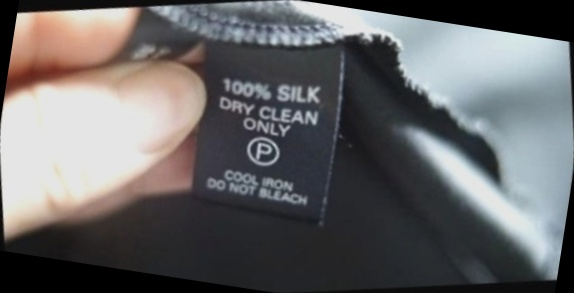dry_clean_any_solvent_except_trichloroethylene: (238, 126, 291, 176)
